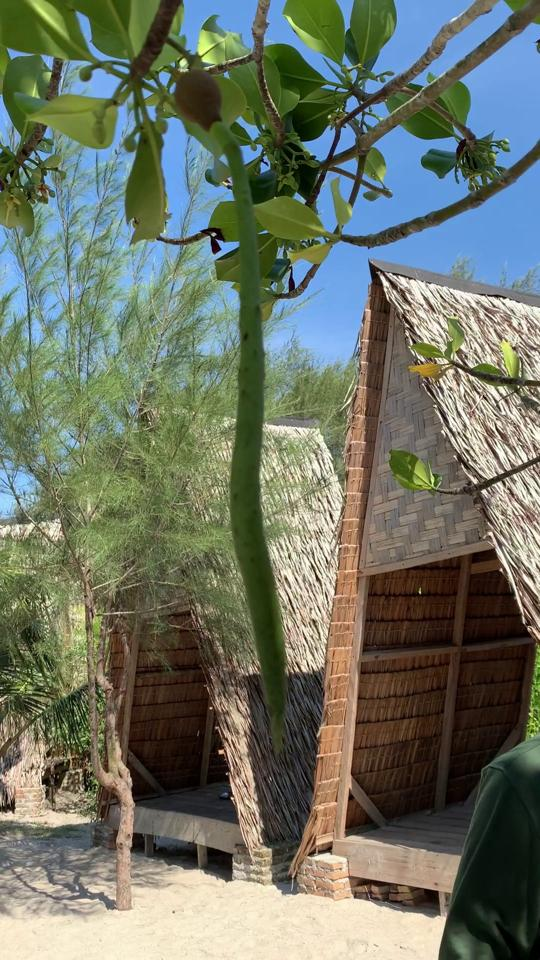setengah matang: (167, 48, 294, 763)
